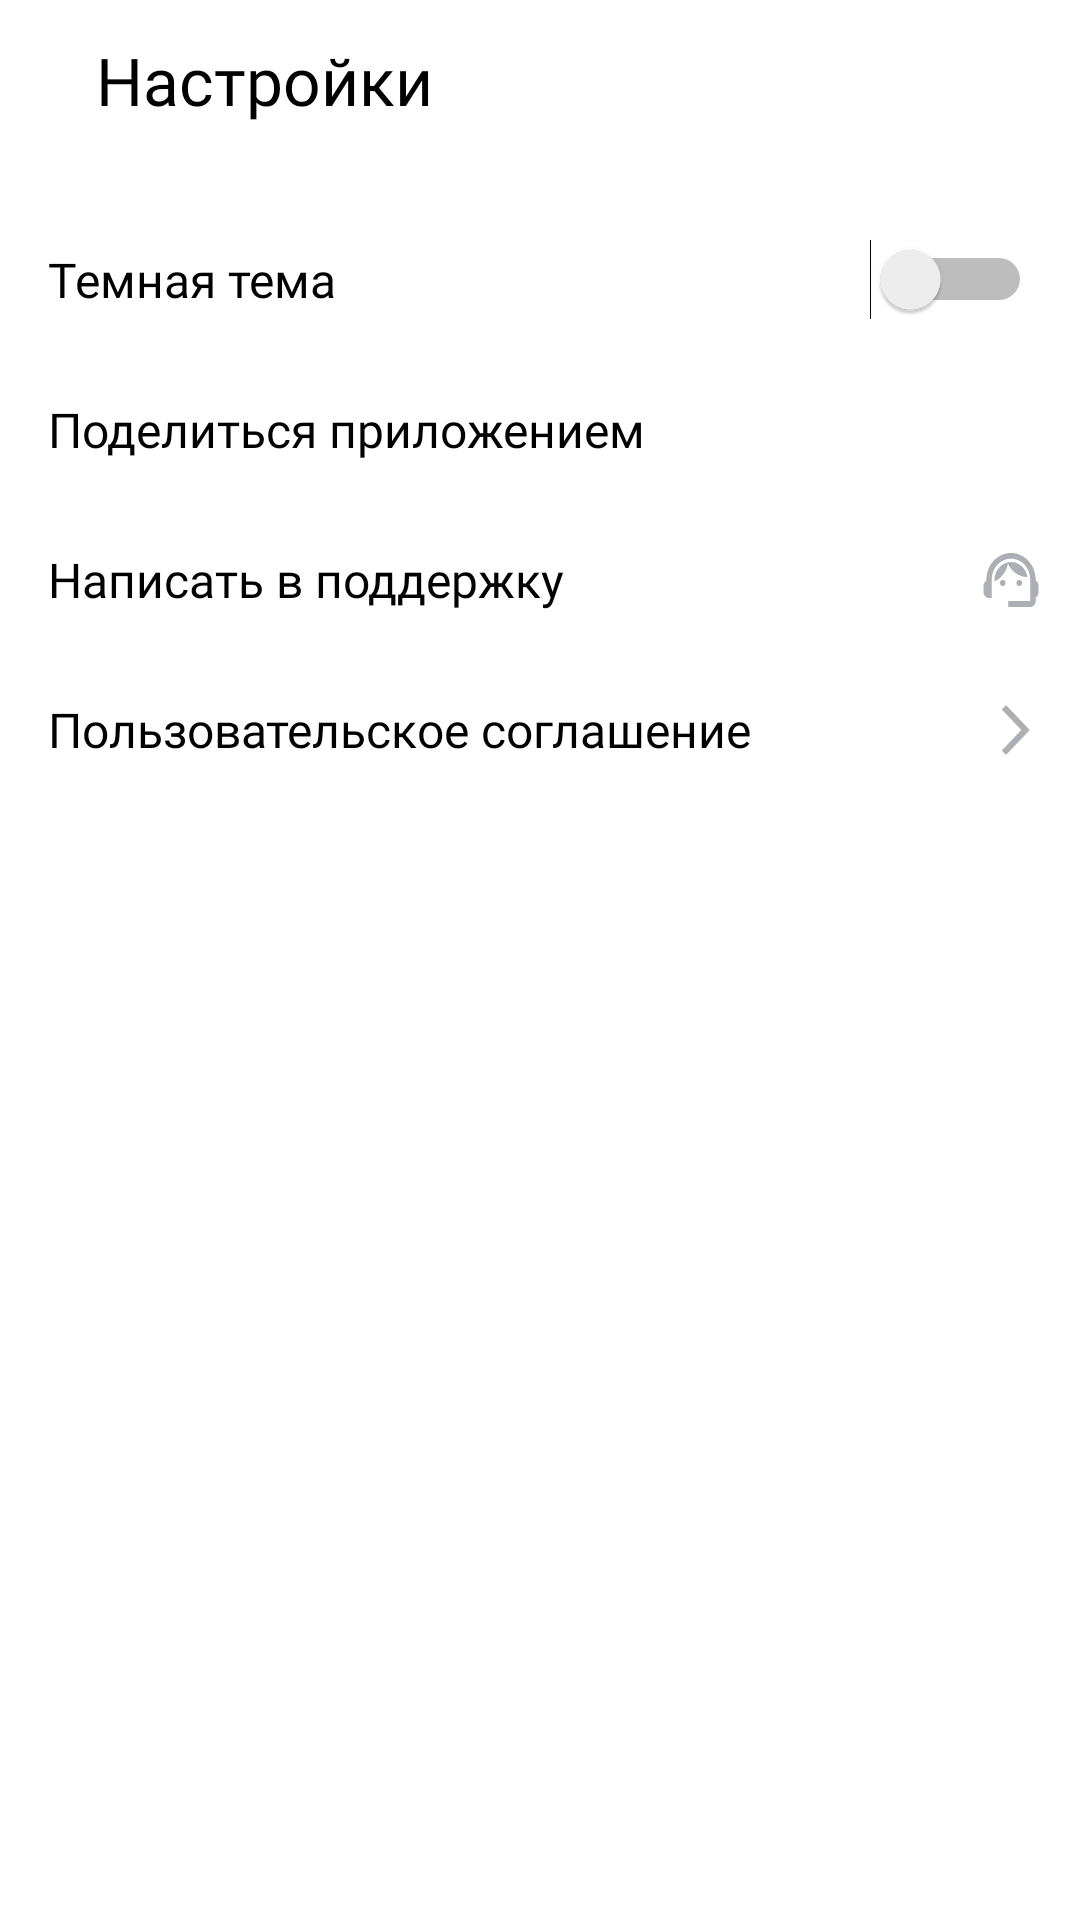

Named icons in this screenshot (1080*1920) and their bounding boxes, {"x1": x1, "y1": y1, "x2": x2, "y2": y2}:
support agent: {"x1": 983, "y1": 553, "x2": 1039, "y2": 607}
